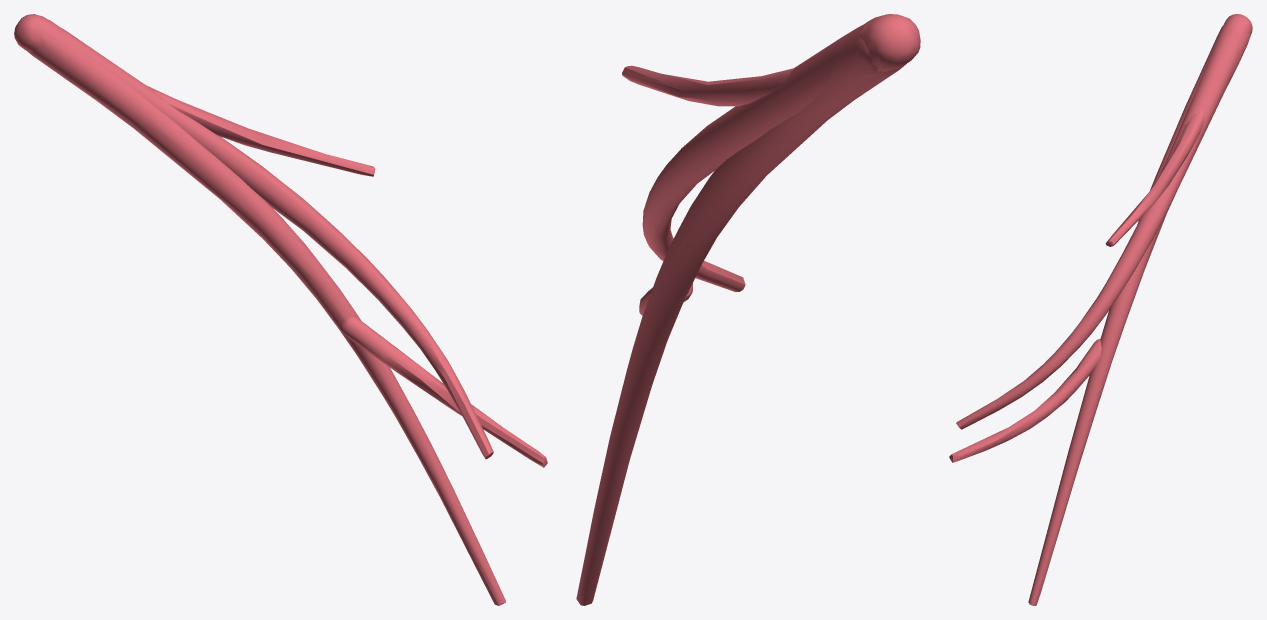
File: fma13289_cx4.glb
3 views of the same model, side by side, from view 1: azimuth 30°, elevation 25°; view 2: azimuth 150°, elevation 25°; view 3: azimuth 270°, elevation 25° (orthographic). The views are drawn at different scales.
Visible parts, largest first — view 1: FMA13289_CX4; view 2: FMA13289_CX4; view 3: FMA13289_CX4.
Part boxes in pixels (x1=…): FMA13289_CX4: x1=14, y1=14, x2=547, y2=605; FMA13289_CX4: x1=576, y1=14, x2=920, y2=605; FMA13289_CX4: x1=949, y1=14, x2=1252, y2=605.
Size of the model in its own units: 0.0525 by 0.0805 by 0.0482.
